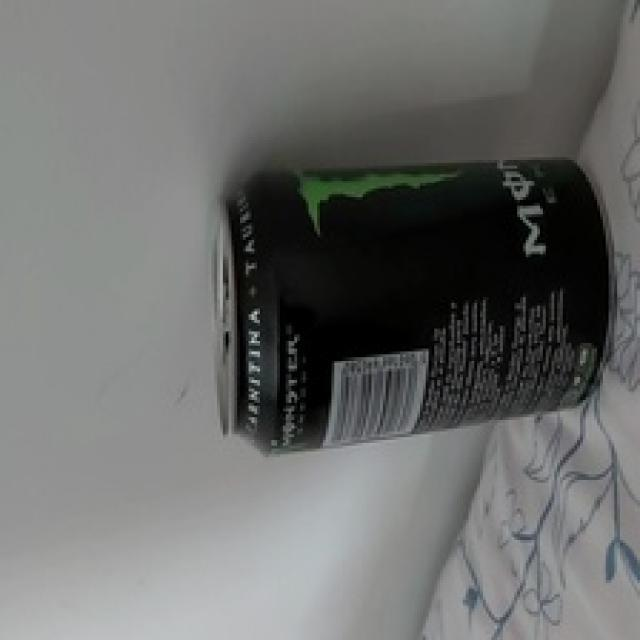recyclable: (216, 157, 618, 460)
